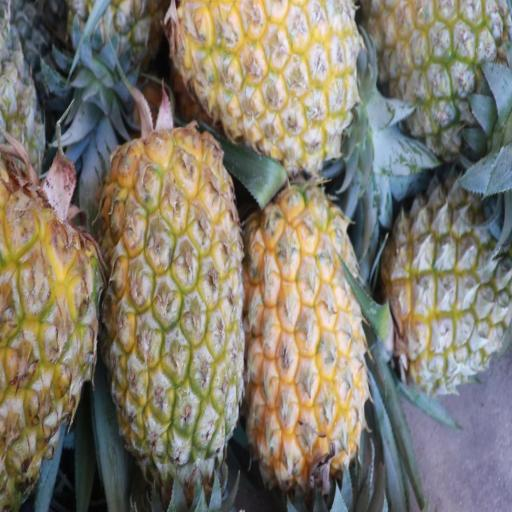------------------------------: (391, 182, 512, 396)
Pineapple - v8 v1: (111, 139, 242, 465), (244, 186, 366, 486), (0, 176, 100, 507), (174, 0, 360, 163), (369, 0, 512, 156)
